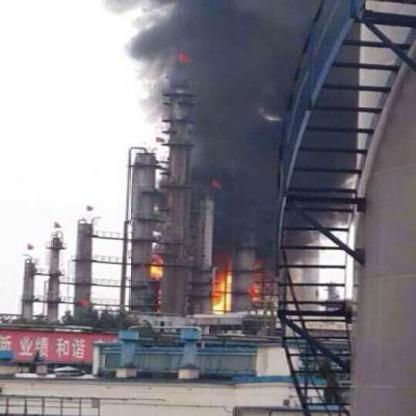fire: (146, 244, 272, 310), (198, 170, 238, 192), (172, 44, 204, 64)
smoke: (139, 0, 281, 237)
